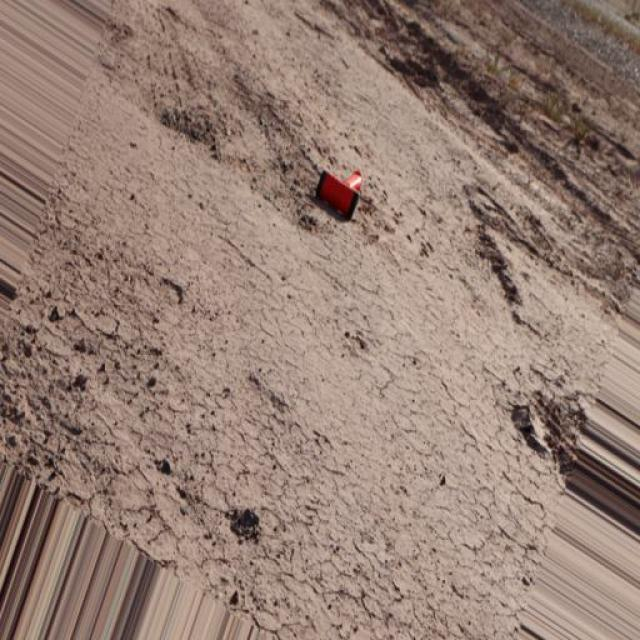mallet: (314, 168, 362, 220)
